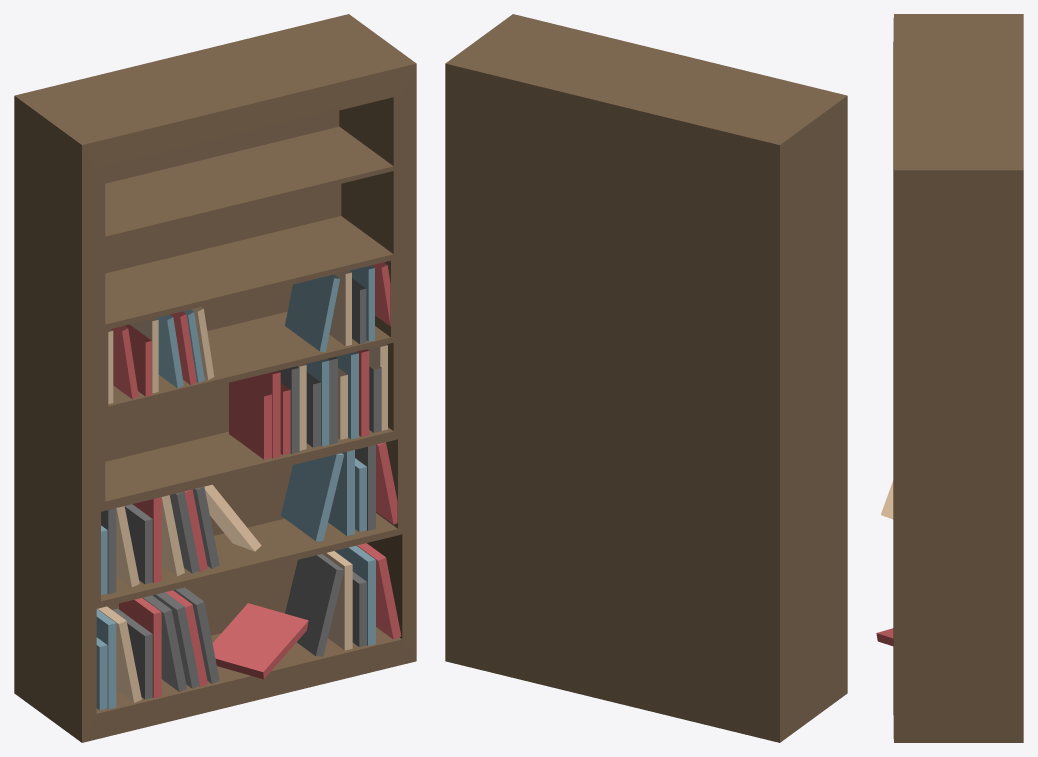
Rendered from bookcase.fbx.
3 views of the same model, side by side, from view 1: azimuth 30°, elevation 25°; view 2: azimuth 150°, elevation 25°; view 3: azimuth 270°, elevation 25° (orthographic). The views are drawn at different scales.
Visible parts, largest first — view 1: pCube1, pCube116; view 2: pCube1; view 3: pCube1, pCube116.
Boxes of the visible parts, <box> form: pCube1: <box>14,14,416,742</box>; pCube116: <box>96,262,401,710</box>; pCube1: <box>445,14,847,742</box>; pCube1: <box>893,14,1023,742</box>; pCube116: <box>876,481,893,646</box>.
Bounding box in the file's own units: 5.53 × 9.44 × 2.2.
